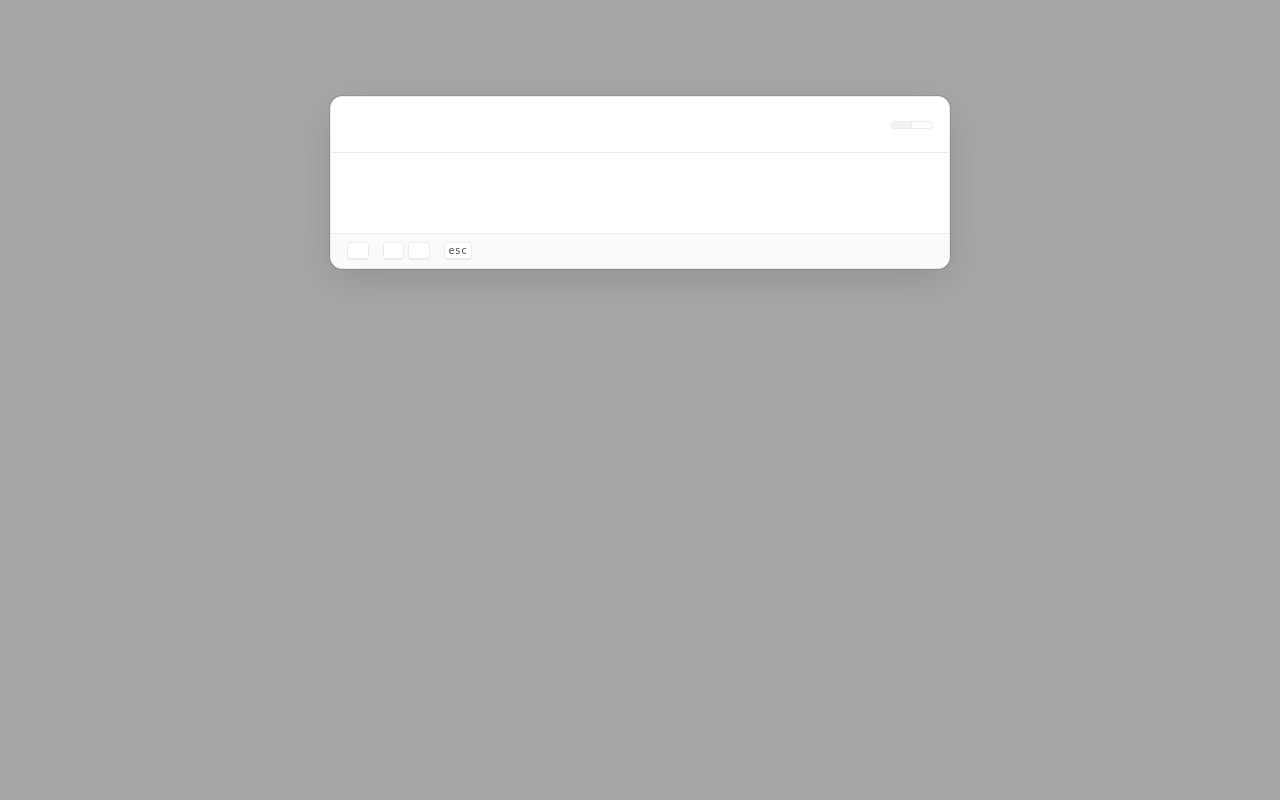
Test: GlobalSearchModal › shows no-results state with the query in bold
Type "xyznonexistent" into the field with class "gs-input".
click(628, 124); type("xyznonexistent")  # box [377,97,880,152]
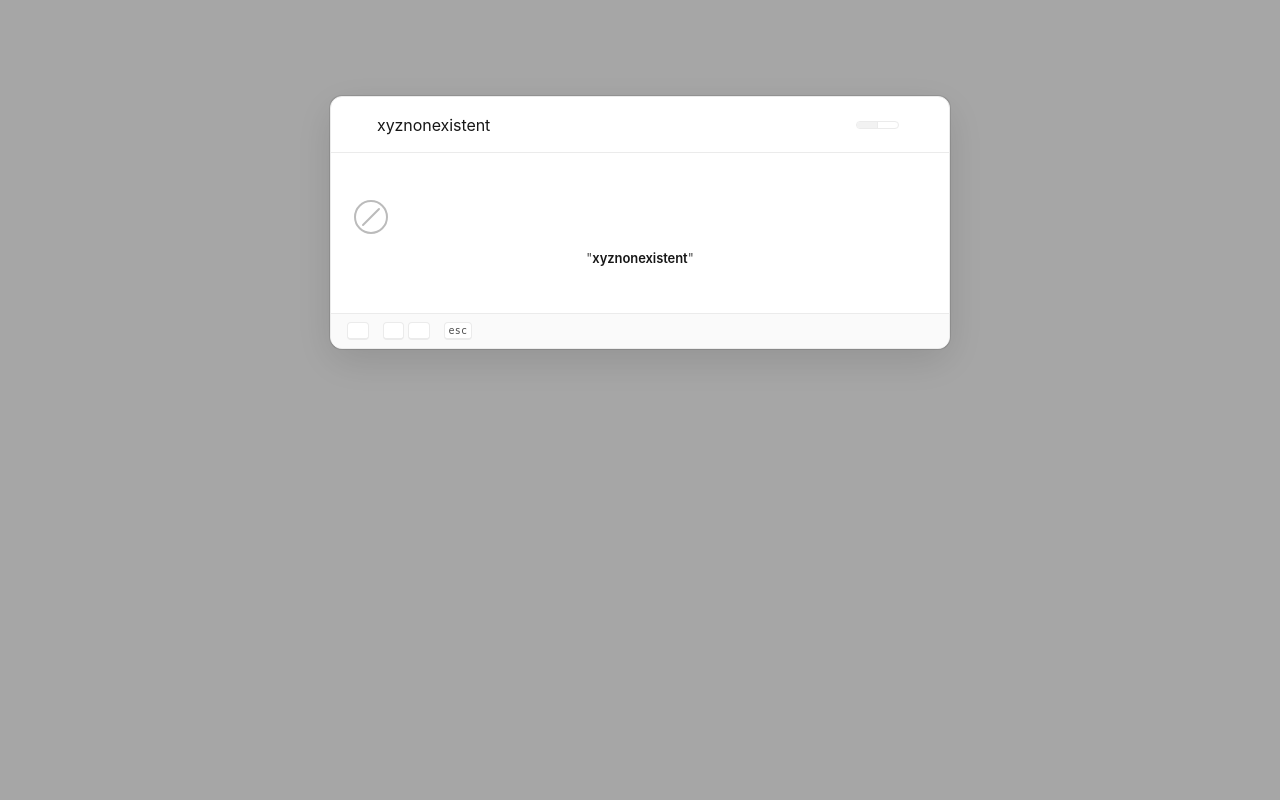
Now the icon with class "gs-no-results-icon" is shown, box [351,197,391,237]
Now the text "xyznonexistent" is shown, box [592,250,688,266]
